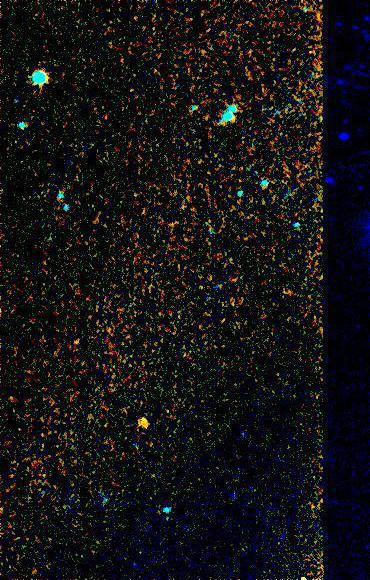star: (290, 560, 320, 580)
